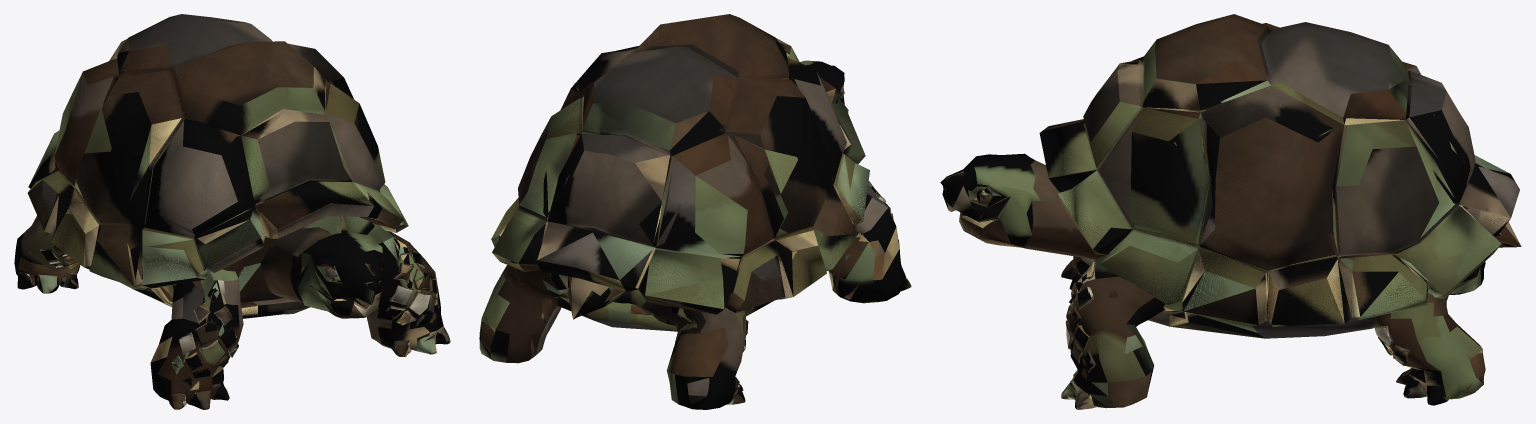
File: creature_tortoise.fbx
3 views of the same model, side by side, from view 1: azimuth 30°, elevation 25°; view 2: azimuth 150°, elevation 25°; view 3: azimuth 270°, elevation 25° (orthographic). The views are drawn at different scales.
Visible parts, largest first — view 1: creature_tortoise_body, creature_tortoise_leg_fr, creature_tortoise_head, creature_tortoise_leg_fl, creature_tortoise_leg_br; view 2: creature_tortoise_body, creature_tortoise_leg_br, creature_tortoise_tail, creature_tortoise_leg_bl, creature_tortoise_leg_fr, creature_tortoise_head; view 3: creature_tortoise_body, creature_tortoise_leg_bl, creature_tortoise_leg_fl, creature_tortoise_head, creature_tortoise_tail, creature_tortoise_leg_fr.
Boxes of the visible parts, x1,y1,x2,y2 form: creature_tortoise_body: [28, 14, 408, 318]; creature_tortoise_leg_fr: [127, 243, 283, 409]; creature_tortoise_head: [296, 232, 386, 318]; creature_tortoise_leg_fl: [366, 231, 450, 356]; creature_tortoise_leg_br: [14, 180, 155, 299]; creature_tortoise_body: [491, 14, 869, 330]; creature_tortoise_leg_br: [630, 229, 857, 409]; creature_tortoise_tail: [490, 225, 706, 408]; creature_tortoise_leg_bl: [479, 235, 566, 363]; creature_tortoise_leg_fr: [828, 181, 911, 303]; creature_tortoise_head: [800, 60, 848, 112]; creature_tortoise_body: [1024, 14, 1510, 323]; creature_tortoise_leg_bl: [1184, 245, 1500, 405]; creature_tortoise_leg_fl: [1061, 271, 1262, 409]; creature_tortoise_head: [940, 153, 1040, 248]; creature_tortoise_tail: [1462, 167, 1521, 284]; creature_tortoise_leg_fr: [1061, 161, 1208, 289].
Size of the model in its own units: 450 by 433 by 729.
Materials: 1 (1 with a texture image).
